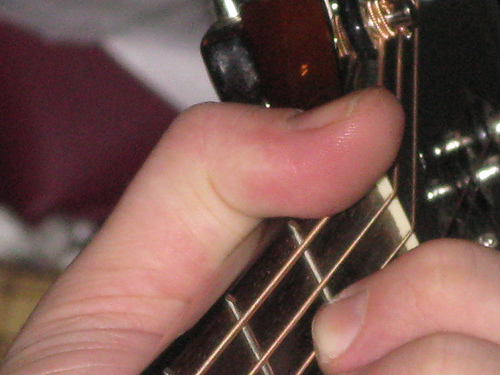guitar: (134, 1, 500, 375)
